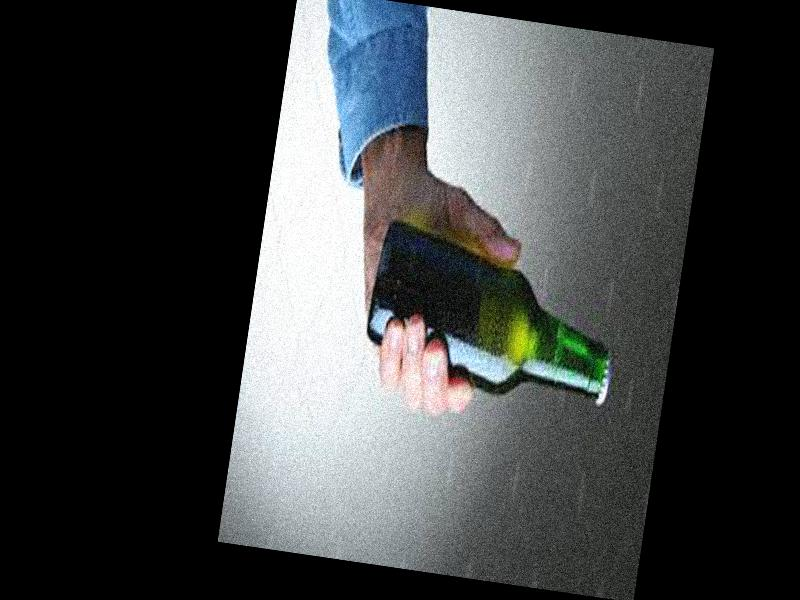Beer: (360, 216, 625, 418)
